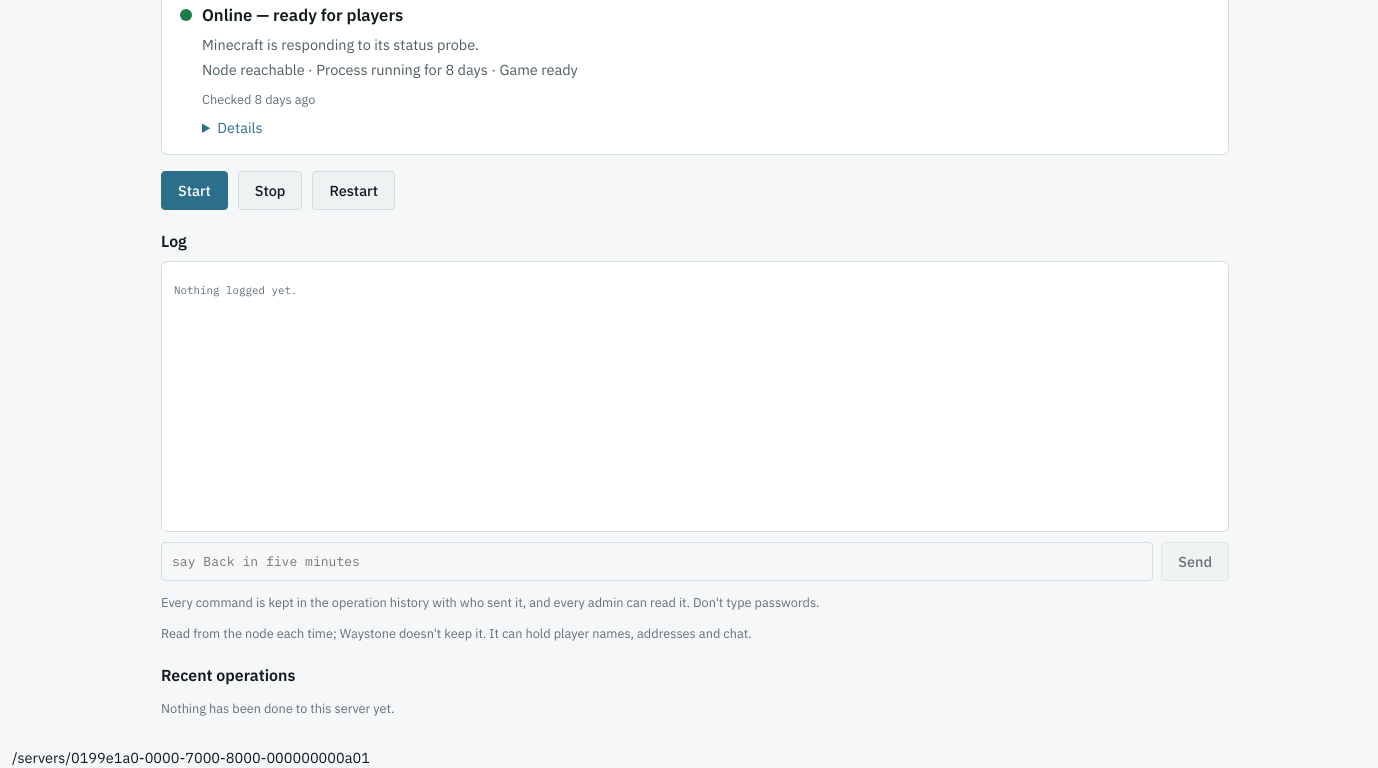
Test: command box (D2) › a session that ends on send goes to login
The width and height of the screenshot is (1378, 768).
(page scrolled)
Type "say hi" into the field named "Console command".
click(657, 562); type("say hi")  # box [161,542,1153,581]
Then press Enter
(page scrolled)
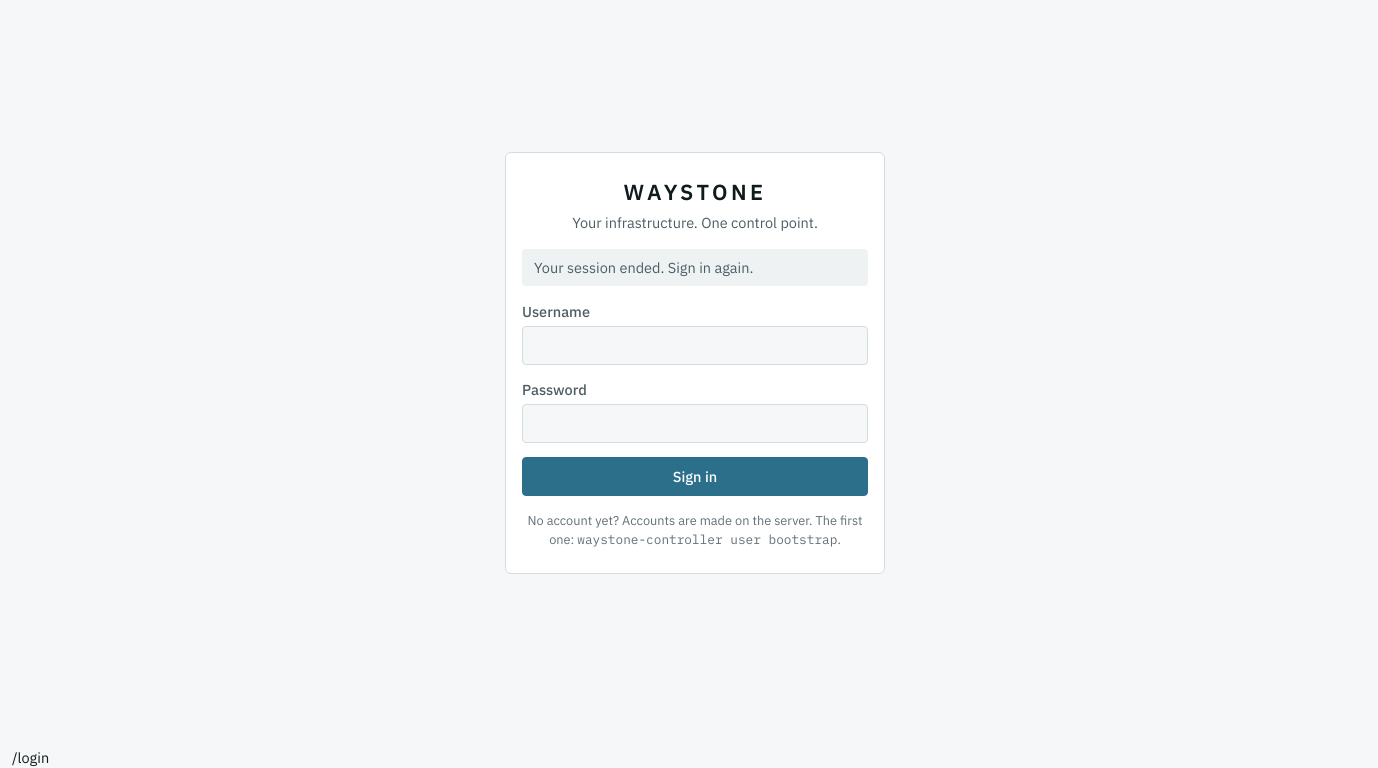
Expected: the text with test id "where" reads "/login", [12,748,49,767]
